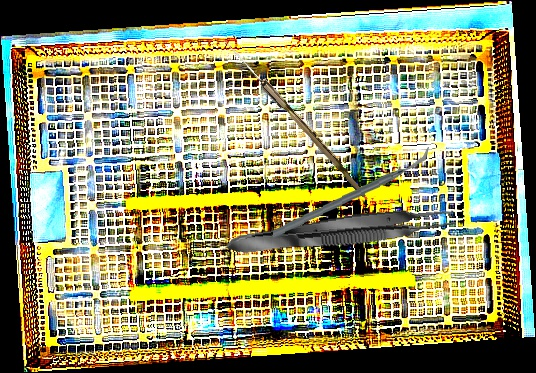Chopper: (268, 146, 434, 239)
Surgical Spoon: (220, 38, 371, 198)
Tissue Forceps: (224, 201, 458, 261)
